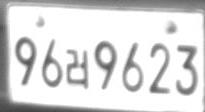2: (148, 42, 171, 93)
3: (175, 44, 198, 95)
6: (121, 42, 144, 92), (41, 39, 63, 87)
9: (94, 39, 117, 89), (14, 36, 37, 85)
러: (66, 49, 87, 88)
